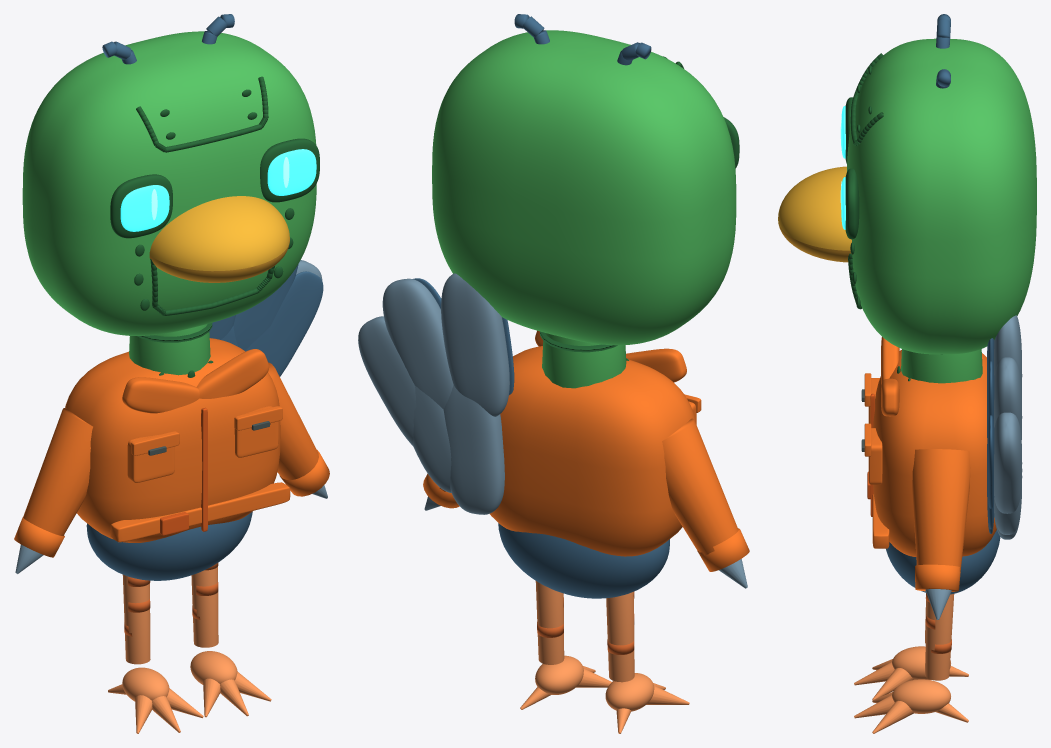
The model's file is robot_bird.glb.
3 views of the same model, side by side, from view 1: azimuth 30°, elevation 25°; view 2: azimuth 150°, elevation 25°; view 3: azimuth 270°, elevation 25° (orthographic). The views are drawn at different scales.
Parts seen in each view (by area): view 1: Large rounded robot head, Orange jacket torso, Upper bill, Jacket sleeve (×2), Round navy lower body, Collar (×2), Bird leg (×2), Cyan eye lens (×2), Tail feather 2, Dark eye socket (×2), Jacket waist belt, Green neck (+8 smaller); view 2: Large rounded robot head, Orange jacket torso, Round navy lower body, Tail feather rim 4, Jacket sleeve, Tail feather rim 0, Tail feather rim 3, Bird leg (×2), Tail feather rim 2, Green neck, Tail feather rim 1, Foot palm (×2) (+2 smaller); view 3: Large rounded robot head, Orange jacket torso, Jacket sleeve, Upper bill, Tail feather rim 2, Foot palm (×2), Green neck, Round navy lower body, Bird leg, Tail feather rim 3, Collar (×2), Sleeve cuff (+9 smaller).
Part boxes in pixels (<box>): Large rounded robot head: <box>22,31,316,335</box>; Orange jacket torso: <box>65,338,280,542</box>; Upper bill: <box>149,196,289,271</box>; Jacket sleeve (×2): <box>23,362,318,535</box>; Round navy lower body: <box>86,512,252,580</box>; Collar (×2): <box>122,349,269,413</box>; Bird leg (×2): <box>122,567,218,664</box>; Cyan eye lens (×2): <box>120,149,316,231</box>; Tail feather 2: <box>267,271,323,376</box>; Dark eye socket (×2): <box>110,138,319,238</box>; Jacket waist belt: <box>110,482,290,542</box>; Green neck: <box>129,324,210,375</box>; Large rounded robot head: <box>432,30,736,345</box>; Orange jacket torso: <box>490,346,696,556</box>; Round navy lower body: <box>498,523,669,598</box>; Tail feather rim 4: <box>441,273,509,416</box>; Jacket sleeve: <box>662,418,738,555</box>; Tail feather rim 0: <box>443,385,504,514</box>; Tail feather rim 3: <box>382,278,453,409</box>; Bird leg (×2): <box>535,581,634,682</box>; Tail feather rim 2: <box>358,316,416,445</box>; Green neck: <box>542,333,626,388</box>; Tail feather rim 1: <box>413,385,451,492</box>; Foot palm (×2): <box>535,655,654,711</box>; Large rounded robot head: <box>847,38,1036,354</box>; Orange jacket torso: <box>873,350,996,556</box>; Jacket sleeve: <box>912,449,970,571</box>; Upper bill: <box>778,166,851,250</box>; Tail feather rim 2: <box>994,412,1022,513</box>; Foot palm (×2): <box>892,646,950,713</box>; Green neck: <box>901,349,982,383</box>; Round navy lower body: <box>886,529,1000,594</box>; Bird leg: <box>925,594,954,680</box>; Tail feather rim 3: <box>994,357,1022,439</box>; Collar (×2): <box>881,337,899,416</box>; Sleeve cuff: <box>915,564,960,591</box>.
Size of the model in its own units: 2.5 by 4.66 by 1.66.
